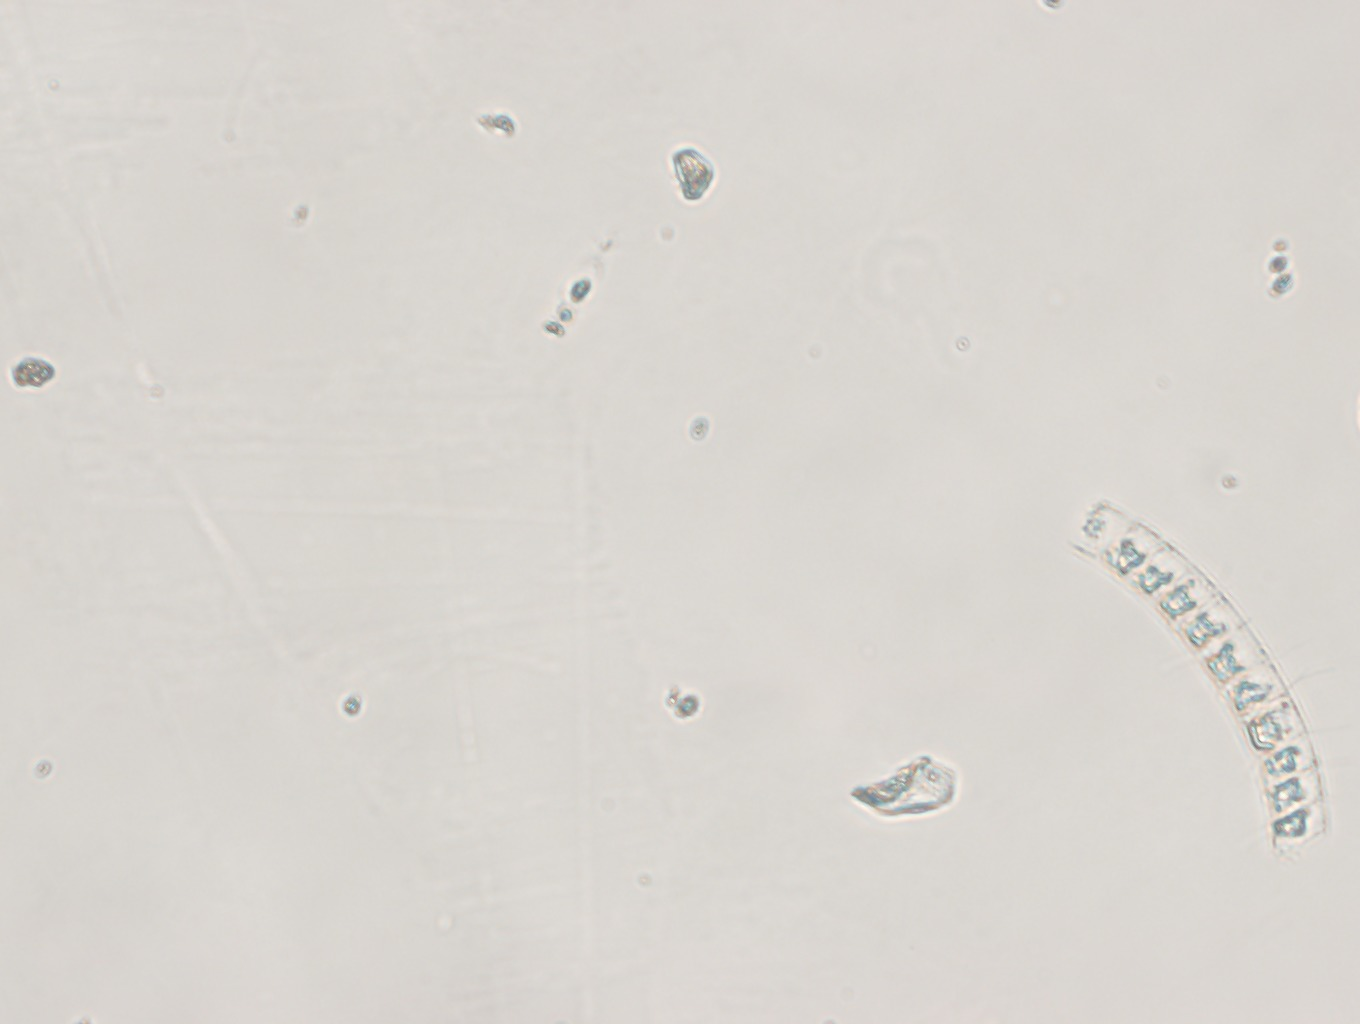chaetoceros: (1051, 488, 1345, 861)
